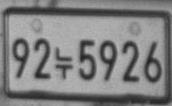2: (121, 39, 140, 83), (33, 37, 51, 79)
5: (77, 39, 97, 81)
6: (142, 40, 162, 83)
9: (98, 39, 118, 81), (11, 37, 30, 79)
누: (54, 46, 74, 79)
